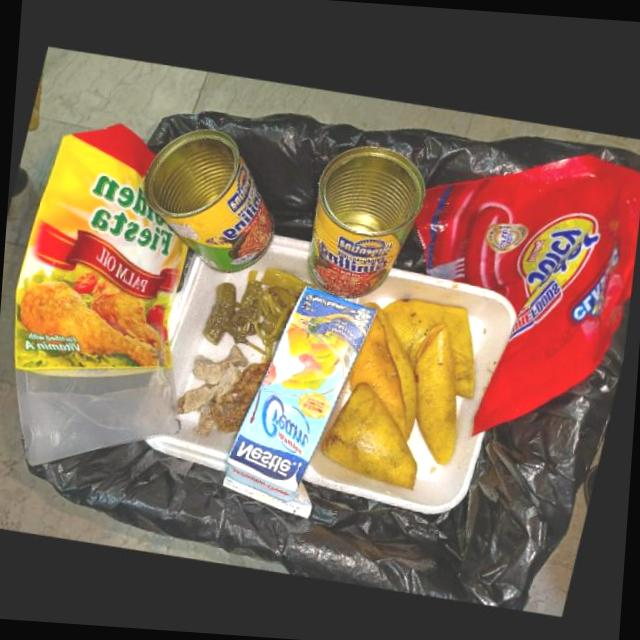bao_bi_thuc_pham: (416, 154, 640, 435), (17, 119, 190, 463)
nhom: (145, 126, 275, 270), (310, 143, 428, 297)
thuc_an_thua: (181, 342, 252, 433), (215, 360, 272, 430)
vo_hop_sua: (227, 283, 379, 516)
vo_rau_cu: (205, 264, 312, 360)
vo_trai_cay: (325, 380, 421, 488), (352, 299, 421, 440), (386, 297, 478, 397), (417, 322, 461, 464)
xop: (307, 266, 519, 513), (173, 232, 312, 393), (151, 409, 240, 468)
